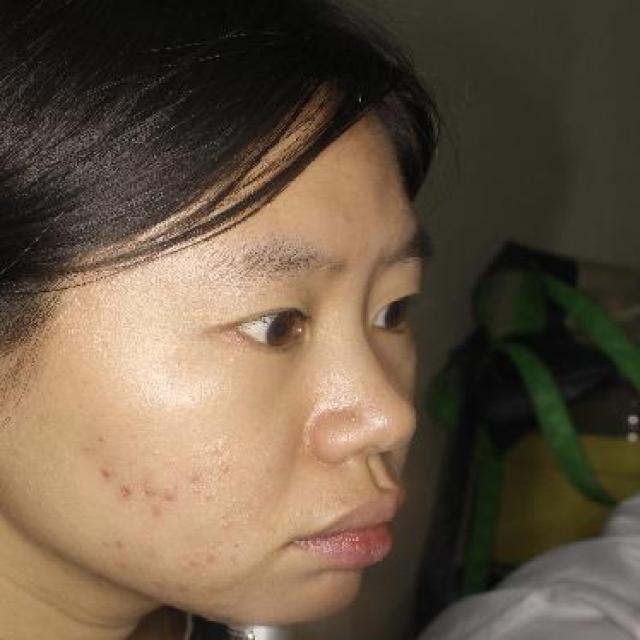Acne: (92, 457, 124, 485), (134, 474, 164, 498), (112, 480, 136, 509), (152, 482, 178, 500), (178, 552, 202, 571), (199, 549, 220, 566), (107, 537, 128, 552)
Whiteheads: (214, 454, 238, 481), (216, 517, 237, 534)
